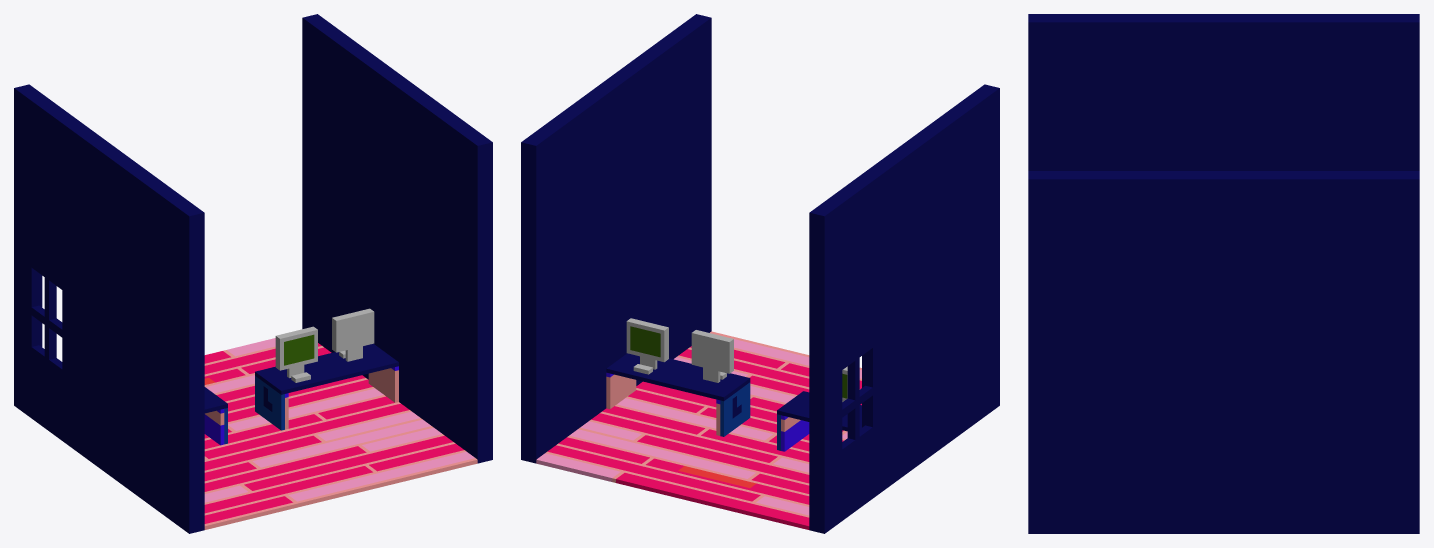
File: twoTables.obj
The picture shows the model from 3 angles, left to right: view 1: azimuth 30°, elevation 25°; view 2: azimuth 150°, elevation 25°; view 3: azimuth 270°, elevation 25°; orthographic projection. The views are drawn at different scales.
Size of the model in its own units: 8 by 8 by 8.
Materials: 1 (1 with a texture image).
